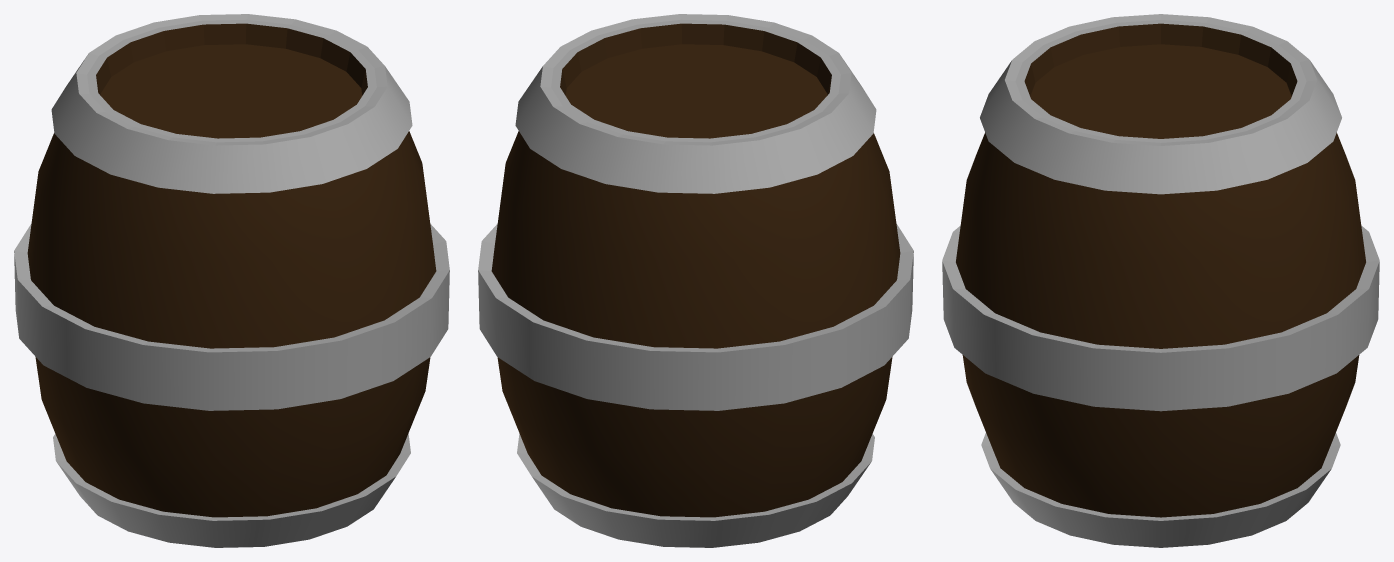
The model's file is Barrel_01.fbx.
3 renders of one model, left to right at view 1: azimuth 30°, elevation 25°; view 2: azimuth 150°, elevation 25°; view 3: azimuth 270°, elevation 25°, orthographic.
Parts seen in each view (by area): view 1: barrel; view 2: barrel; view 3: barrel.
Part boxes in pixels (<box>): barrel: <box>14,14,449,547</box>; barrel: <box>478,14,913,547</box>; barrel: <box>942,14,1379,547</box>.
Bounding box in the file's own units: 3.15 × 3.2 × 3.15.
